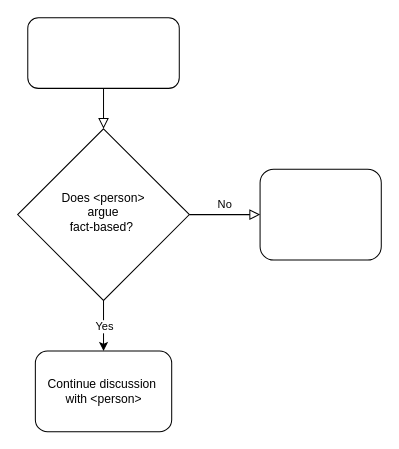
This 399x449 diagram has some shape labels left out. The box of each missing label's shape, as (x1, y1, x2, y2) in pixels:
quit discussion with <person> instantly: (259, 168, 381, 260)
Start a discussion with <person>: (27, 17, 179, 88)
